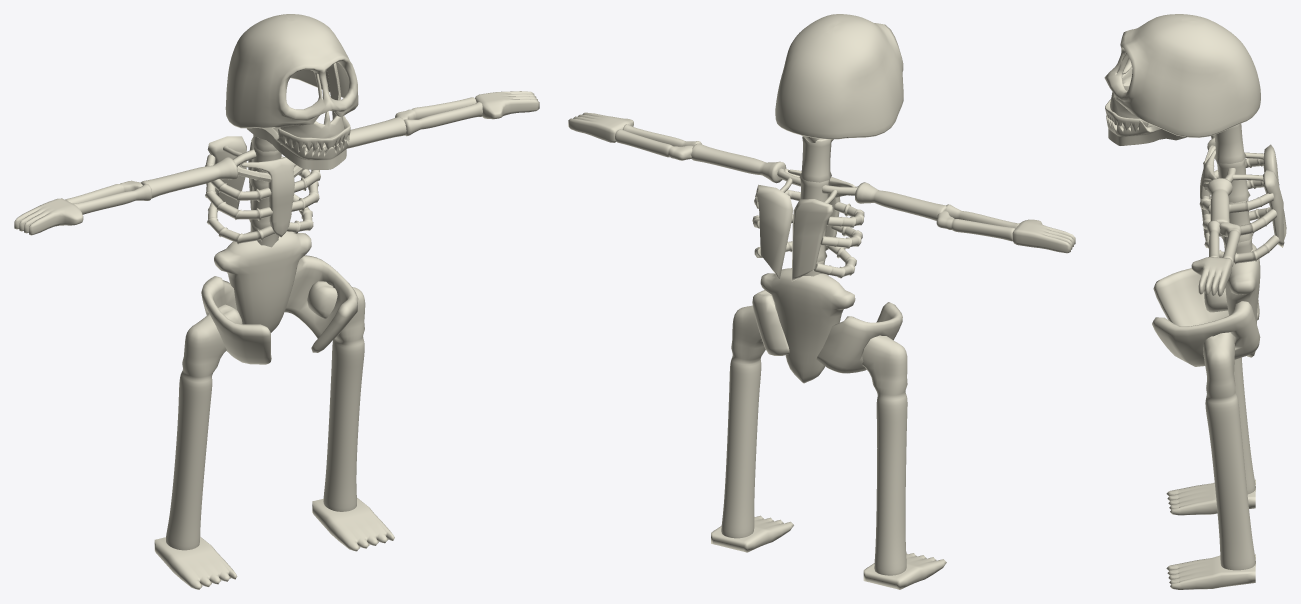
File: Skeleton.fbx
The picture shows the model from 3 angles, left to right: view 1: azimuth 30°, elevation 25°; view 2: azimuth 150°, elevation 25°; view 3: azimuth 270°, elevation 25°; orthographic projection. The views are drawn at different scales.
Visible parts, largest first — view 1: Skeleton; view 2: Skeleton; view 3: Skeleton.
Part boxes in pixels (x1,y1,x2,y2): Skeleton: (14,14,539,589); Skeleton: (568,14,1075,589); Skeleton: (1104,14,1286,589).
Size of the model in its own units: 913 by 908 by 286.
